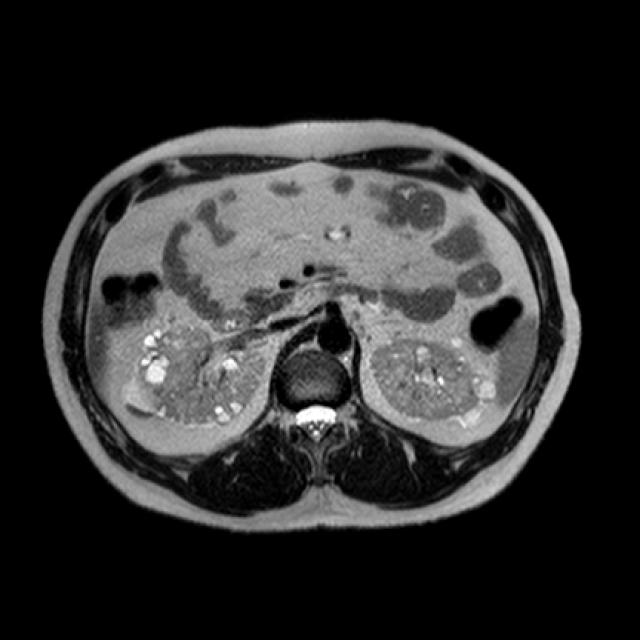sag: (122, 316, 264, 431)
sol: (368, 335, 496, 428)
